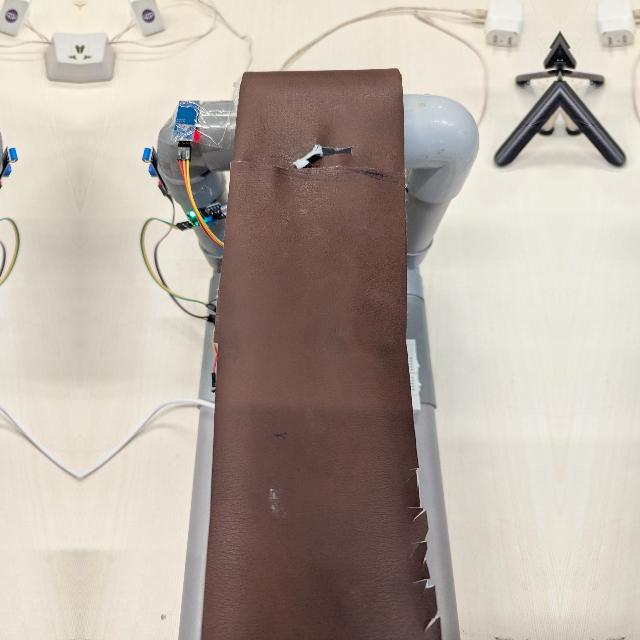joint_damage: (283, 129, 366, 181)
